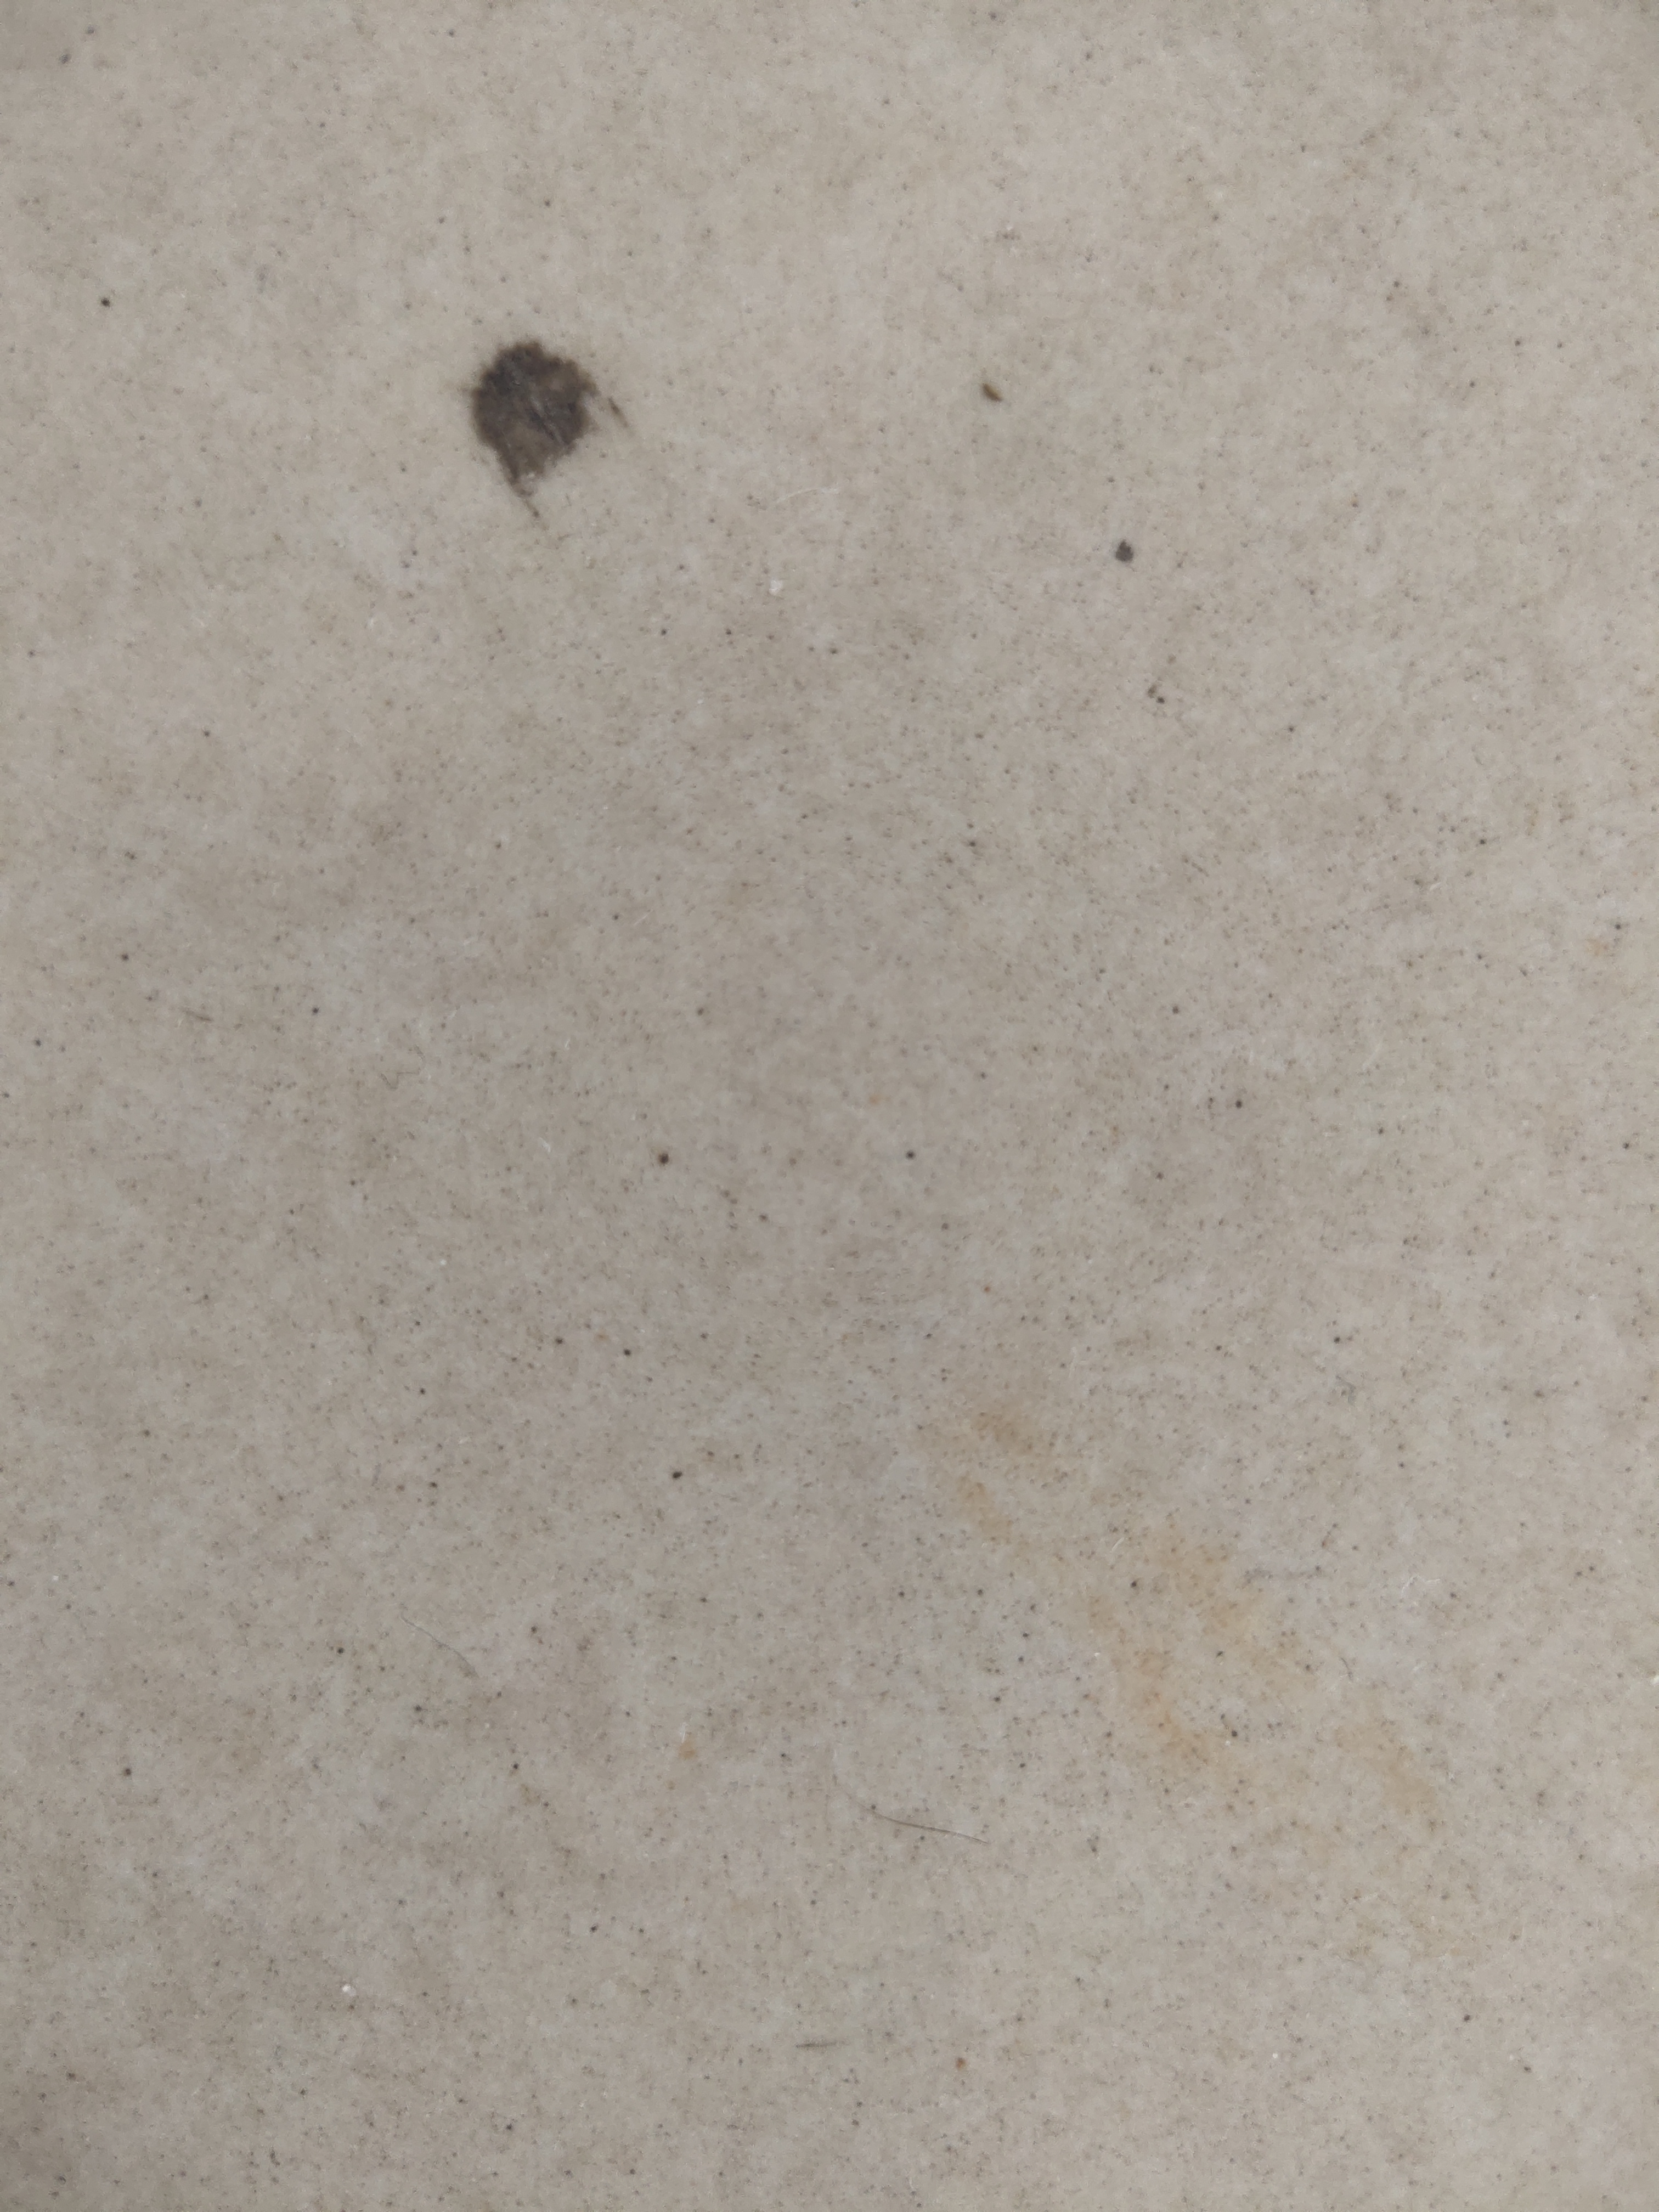grey spot: (467, 338, 633, 531)
